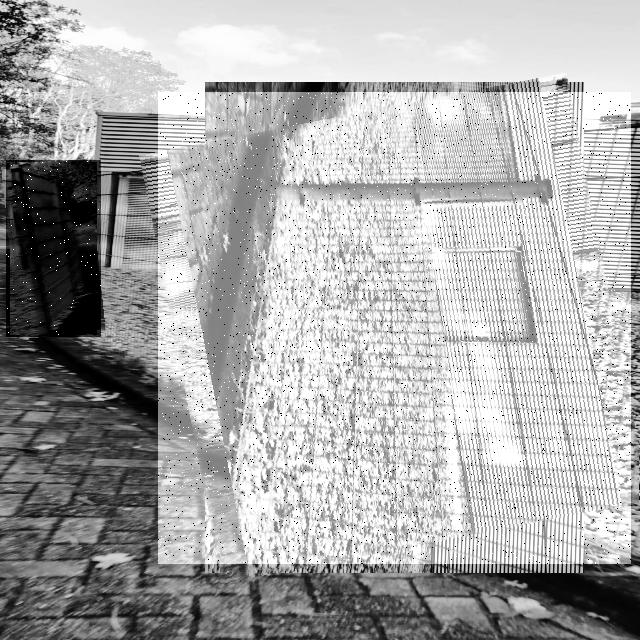fences: (158, 92, 631, 564), (6, 160, 101, 337)
